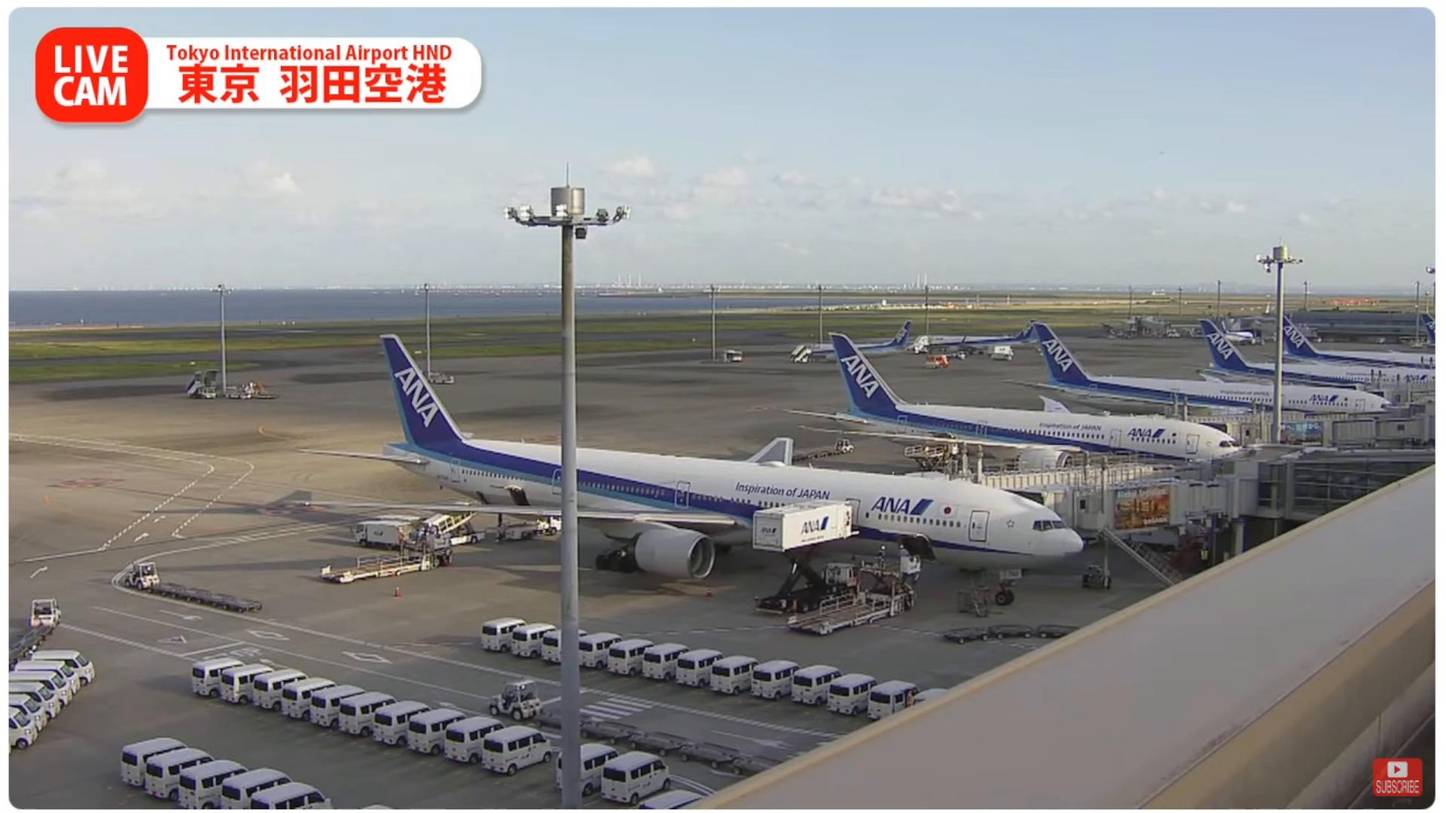Aerobridge: (990, 474, 1217, 523), (903, 458, 1204, 486)
Airplane: (297, 333, 1082, 582)
Baggage truck: (350, 518, 412, 549), (381, 512, 423, 541)
Catering: (751, 501, 860, 615)
Dolly: (144, 582, 263, 612), (945, 622, 1080, 645)
JCPL: (762, 550, 928, 636), (315, 543, 456, 584)
Skyloader: (420, 510, 487, 544)
Tractor: (123, 563, 161, 587)
Window: (1253, 443, 1435, 520)
